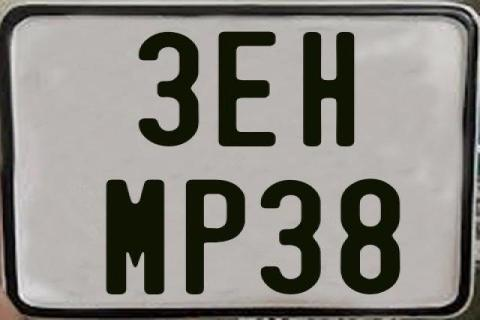0: (339, 177, 405, 293), (137, 32, 202, 147), (258, 177, 319, 293)
E: (217, 30, 275, 148)
H: (303, 29, 359, 149)
M: (106, 177, 164, 295)
P: (183, 177, 244, 297)
